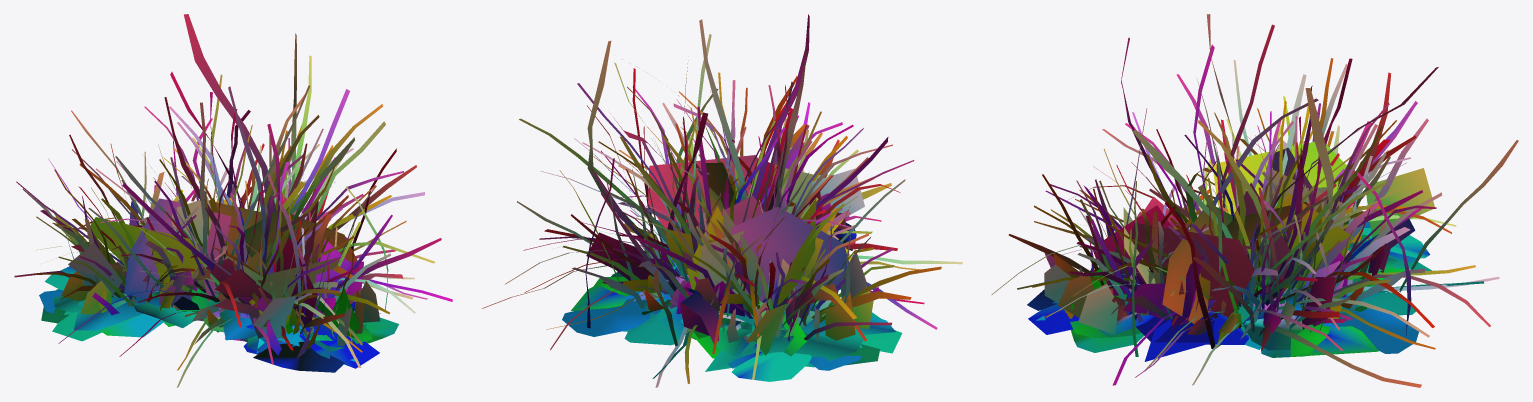
File: Wild_Grass_vdilbaiia_Mid_vdilbaiia_VarJ_LOD2.fbx
The picture shows the model from 3 angles, left to right: view 1: azimuth 30°, elevation 25°; view 2: azimuth 150°, elevation 25°; view 3: azimuth 270°, elevation 25°; orthographic projection. The views are drawn at different scales.
Visible parts, largest first — view 1: _hcqe_VarJ_LOD3; view 2: _hcqe_VarJ_LOD3; view 3: _hcqe_VarJ_LOD3.
Part boxes in pixels (x1,y1,x2,y2): _hcqe_VarJ_LOD3: (14, 14, 452, 387); _hcqe_VarJ_LOD3: (482, 14, 962, 387); _hcqe_VarJ_LOD3: (991, 14, 1518, 387).
Bounding box in the file's own units: 106 × 66.79 × 115.
